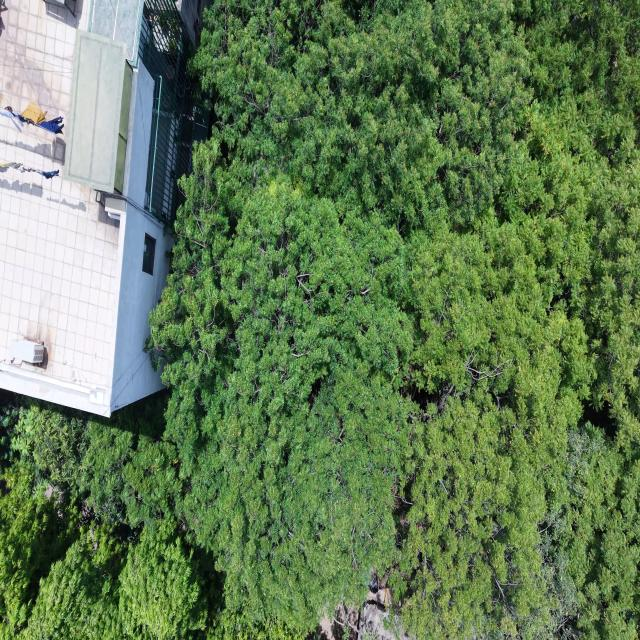ROOFTOP_BUILDING: (0, 0, 202, 415)
VEGETATION_TREE: (0, 0, 639, 639), (0, 395, 304, 639)
